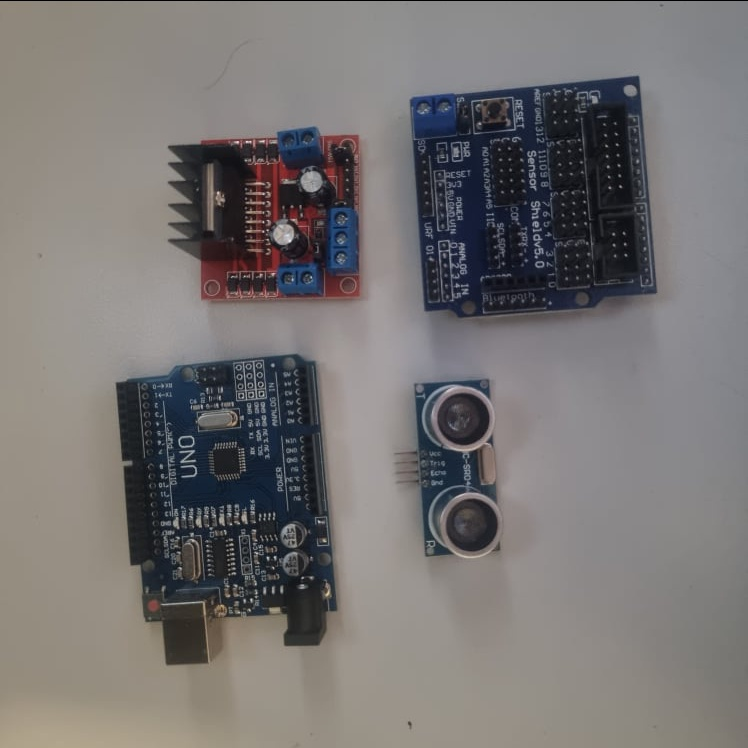5V EXPANSION: (410, 74, 659, 315)
MOTOR: (167, 123, 362, 300)
SENSOR: (410, 371, 500, 560)
UNO R3: (116, 353, 337, 666)
